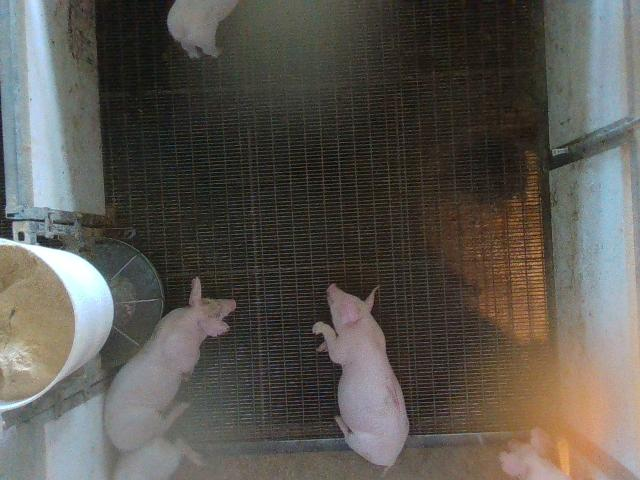pig-1: (312, 284, 409, 467)
